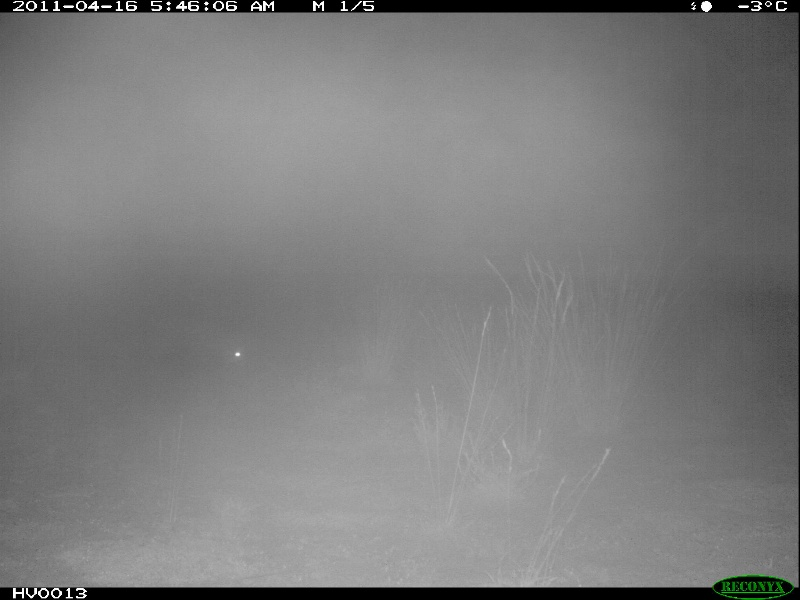fox: (129, 303, 255, 377)
